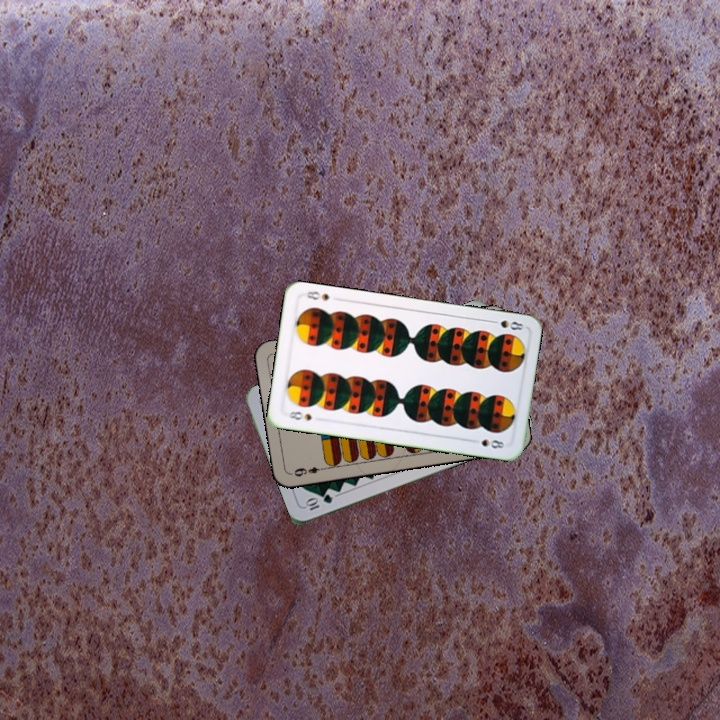E9: (290, 463, 328, 479)
G10: (301, 490, 335, 513)
S8: (486, 316, 526, 333), (284, 407, 314, 423)
